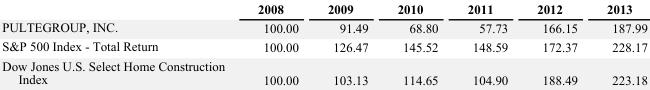table: (1, 1, 646, 86)
table column: (1, 1, 240, 86), (240, 1, 312, 86), (312, 1, 382, 86), (382, 1, 452, 86), (521, 1, 591, 86), (452, 1, 521, 86), (591, 1, 646, 86)
table column header: (1, 1, 646, 17)
table row: (1, 56, 646, 86), (1, 36, 646, 56), (1, 17, 646, 36), (1, 1, 646, 17)
